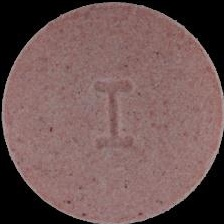31722-728: (0, 0, 224, 224)
